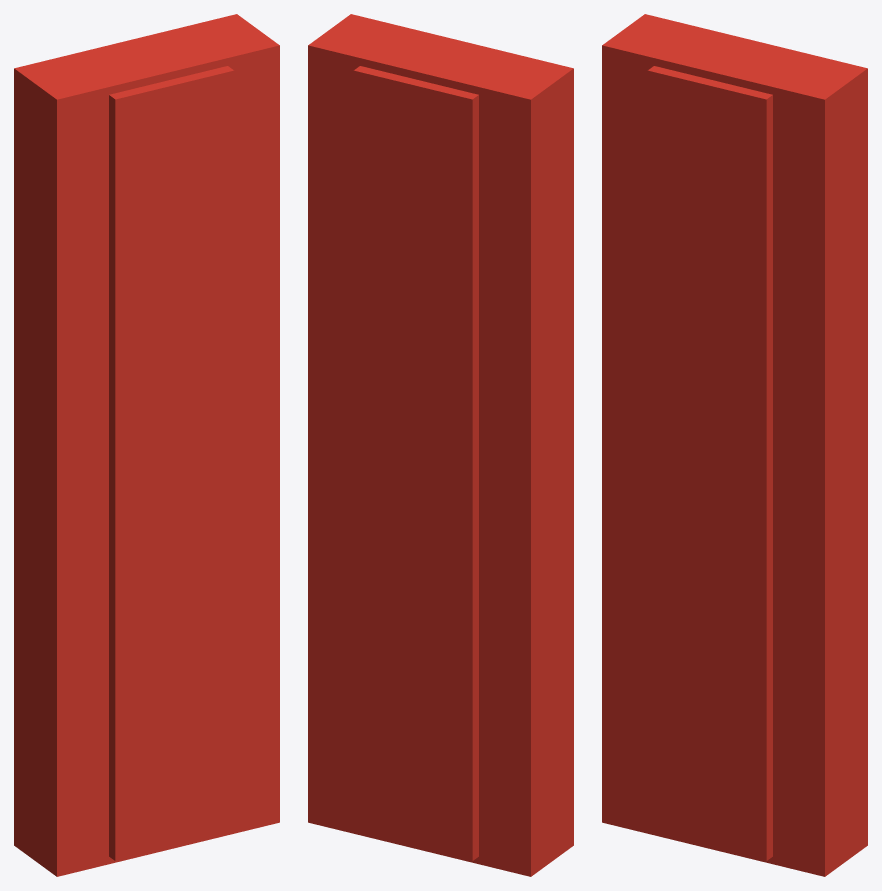
The model's file is pawn_body.glb.
The picture shows the model from 3 angles, left to right: view 1: azimuth 30°, elevation 25°; view 2: azimuth 150°, elevation 25°; view 3: azimuth 330°, elevation 25°; orthographic projection.
Visible parts, largest first — view 1: pawn_body; view 2: pawn_body; view 3: pawn_body.
Part boxes in pixels (x1,y1,x2,y2): pawn_body: (14,14,279,876); pawn_body: (308,14,573,876); pawn_body: (602,14,867,876).
Size of the model in its own units: 0.3 by 1 by 0.13.
